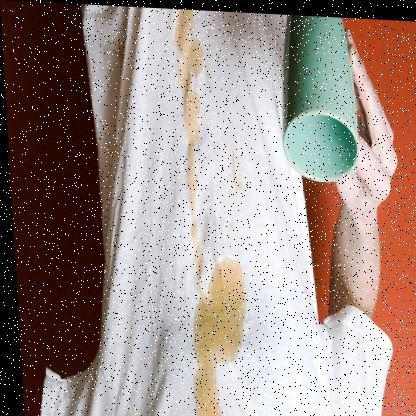coffee: (193, 260, 247, 365), (174, 14, 209, 86), (184, 93, 201, 210), (195, 371, 218, 416)
